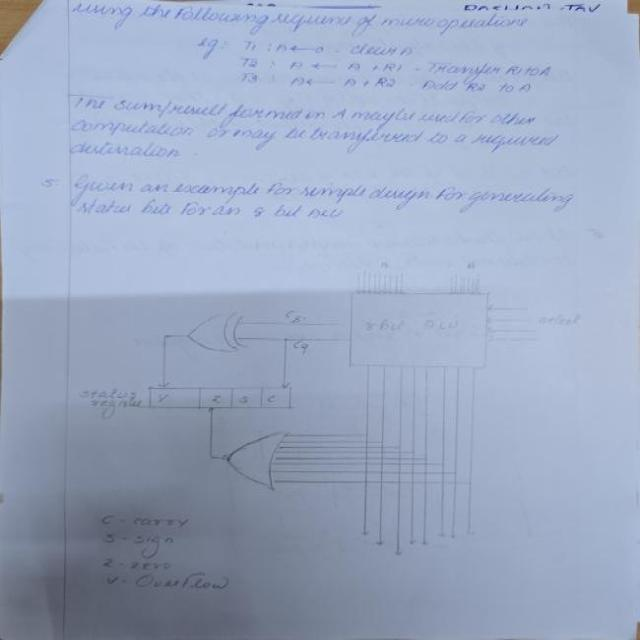Figure Detection - v3 Dataset Version2: (64, 246, 607, 610)
